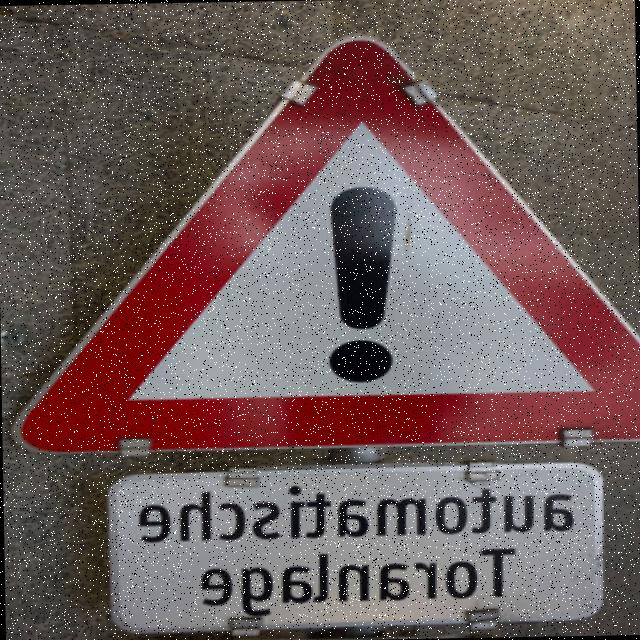warning: (0, 3, 640, 472)
